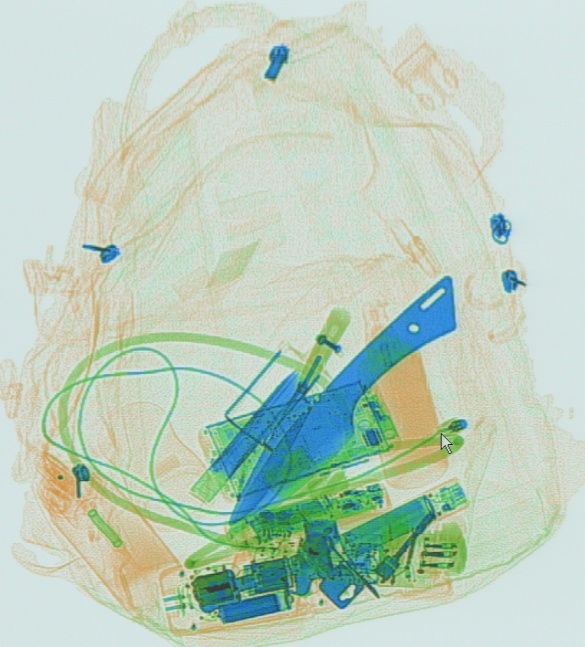knife: (224, 278, 460, 529), (224, 306, 351, 525)
